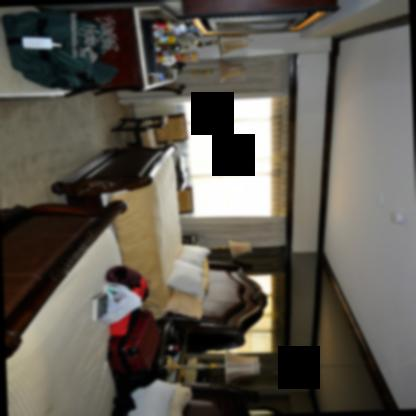backpack: (129, 279, 147, 299)
suitcase: (103, 309, 161, 416)
